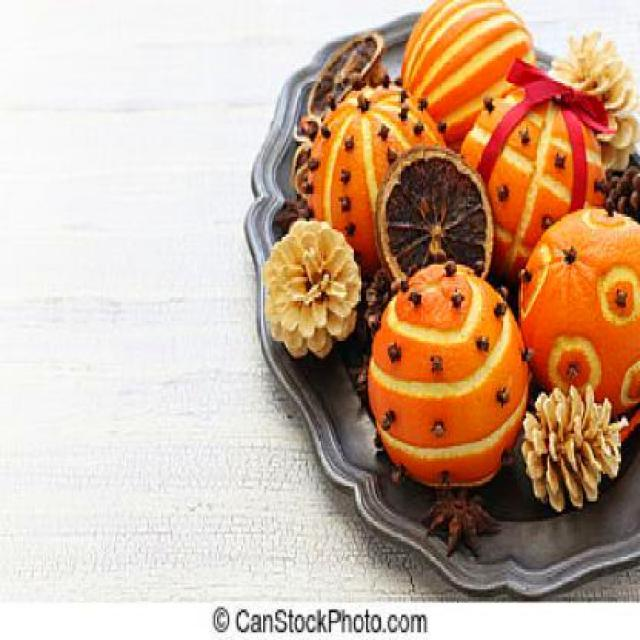Jeruk Sudah Matang: (373, 269, 529, 482), (457, 82, 606, 276), (304, 76, 446, 270), (516, 204, 638, 412), (402, 0, 536, 180)
